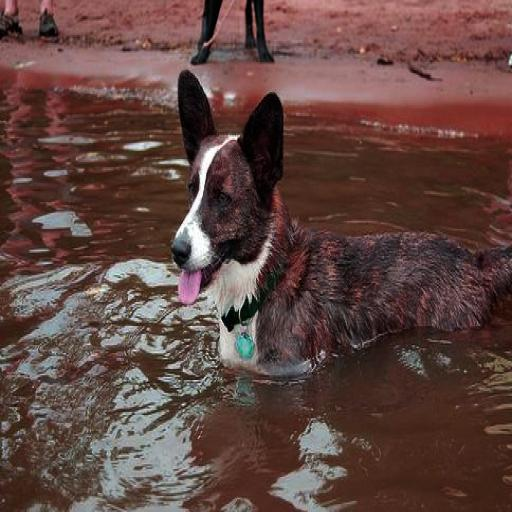dog_face: (168, 76, 287, 294)
